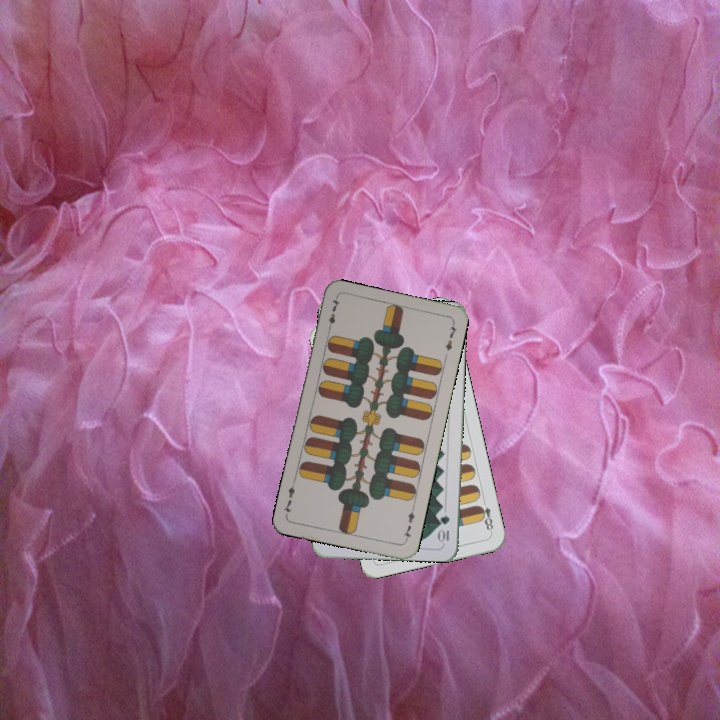E7: (324, 294, 342, 334), (400, 504, 417, 544)
E8: (474, 501, 496, 536)
G10: (436, 511, 452, 545)
